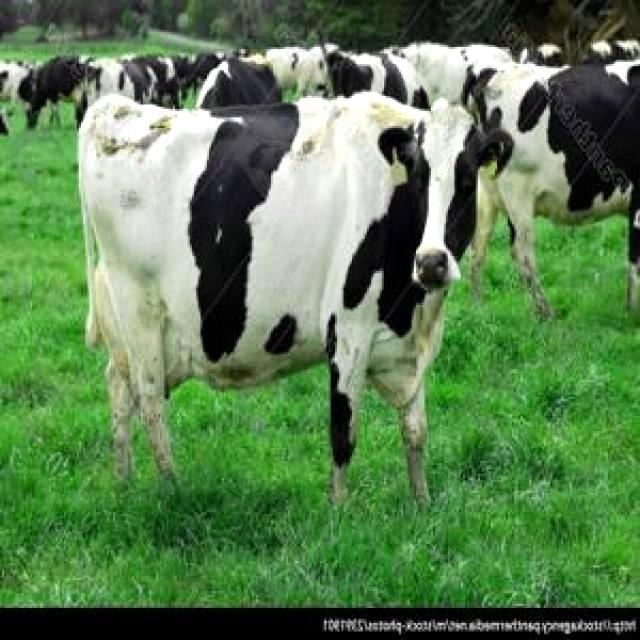COW: (79, 94, 510, 499)
